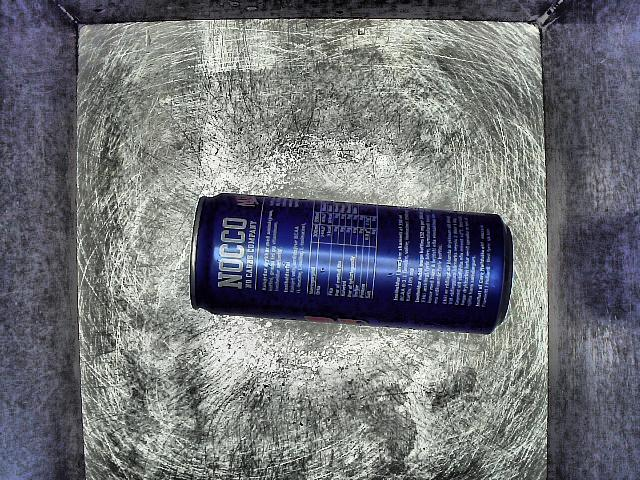Bottles: (175, 173, 531, 355)
